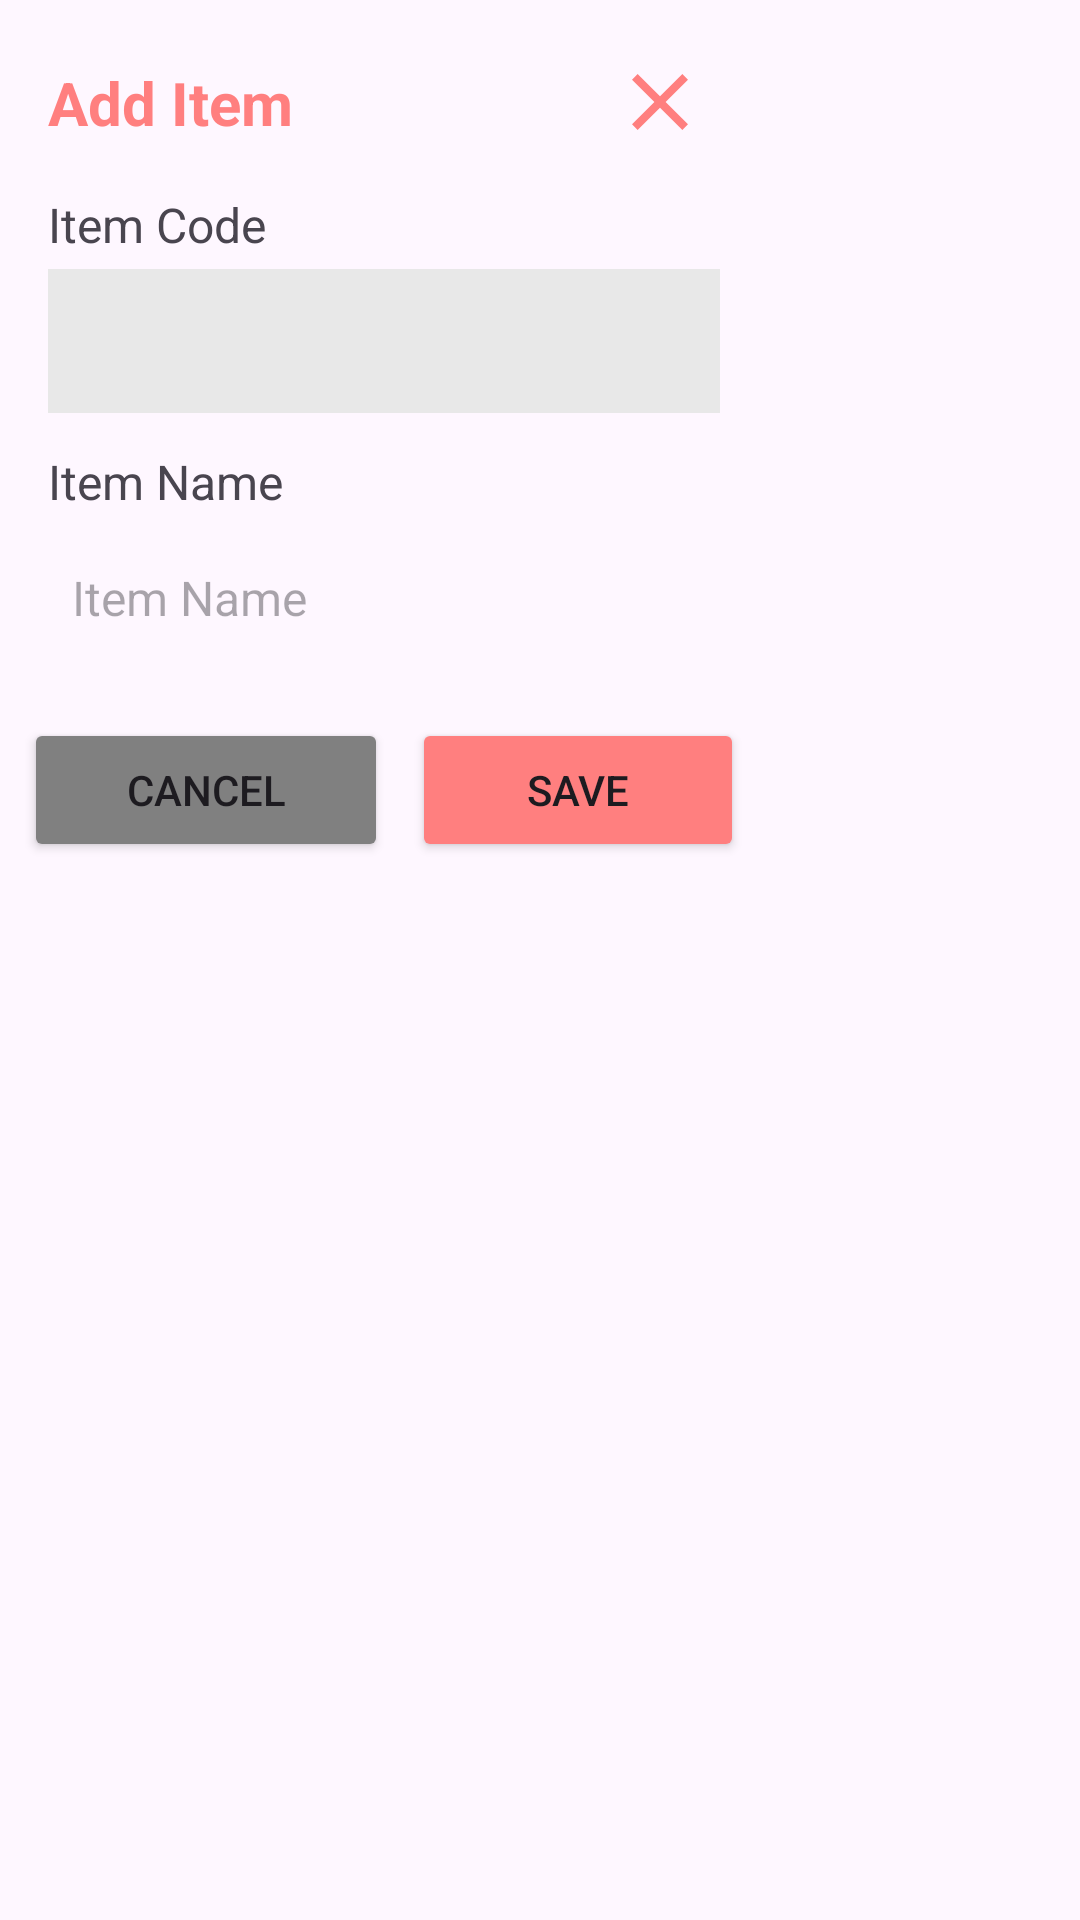

Icons on this 1080 x 1920 Android screen, each with the point to tap as point (x, y):
clear: point (660, 102)
